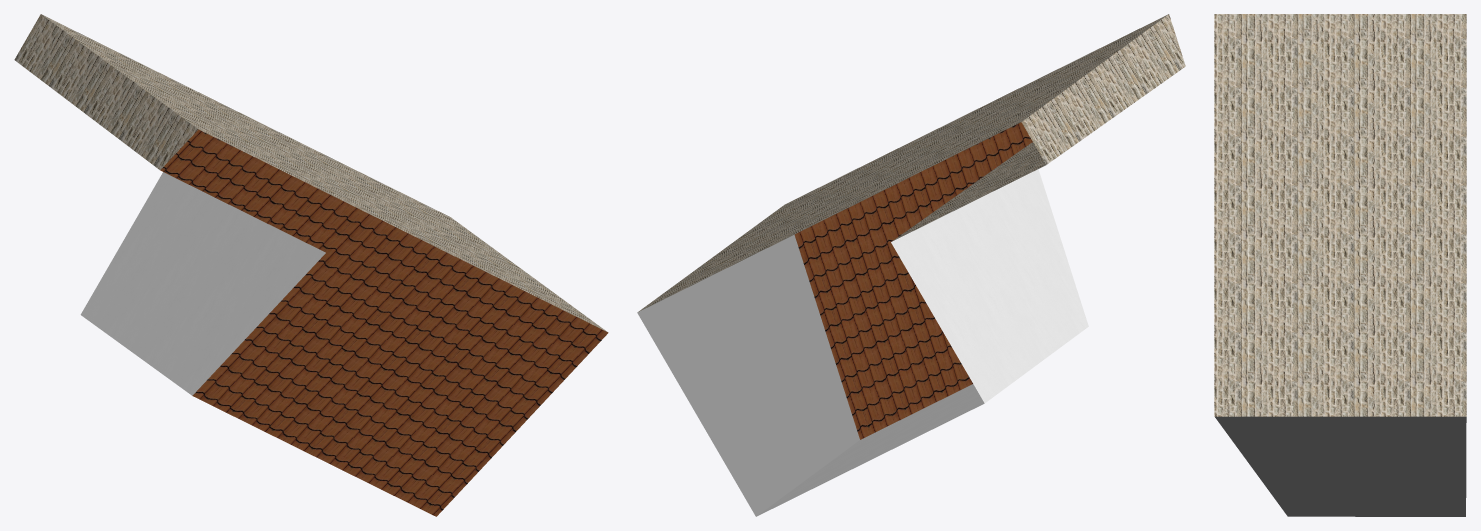
File: Lai_30a_2.obj
The picture shows the model from 3 angles, left to right: view 1: azimuth 30°, elevation 25°; view 2: azimuth 150°, elevation 25°; view 3: azimuth 270°, elevation 25°; orthographic projection. The views are drawn at different scales.
Parts seen in each view (by area): view 1: Lai_30_garage; view 2: Lai_30_garage; view 3: Lai_30_garage.
Part boxes in pixels (x1,y1,x2,y2): Lai_30_garage: [14, 14, 608, 516]; Lai_30_garage: [637, 14, 1185, 516]; Lai_30_garage: [1214, 14, 1466, 516].
Size of the model in its own units: 7.18 by 7.68 by 4.47.
